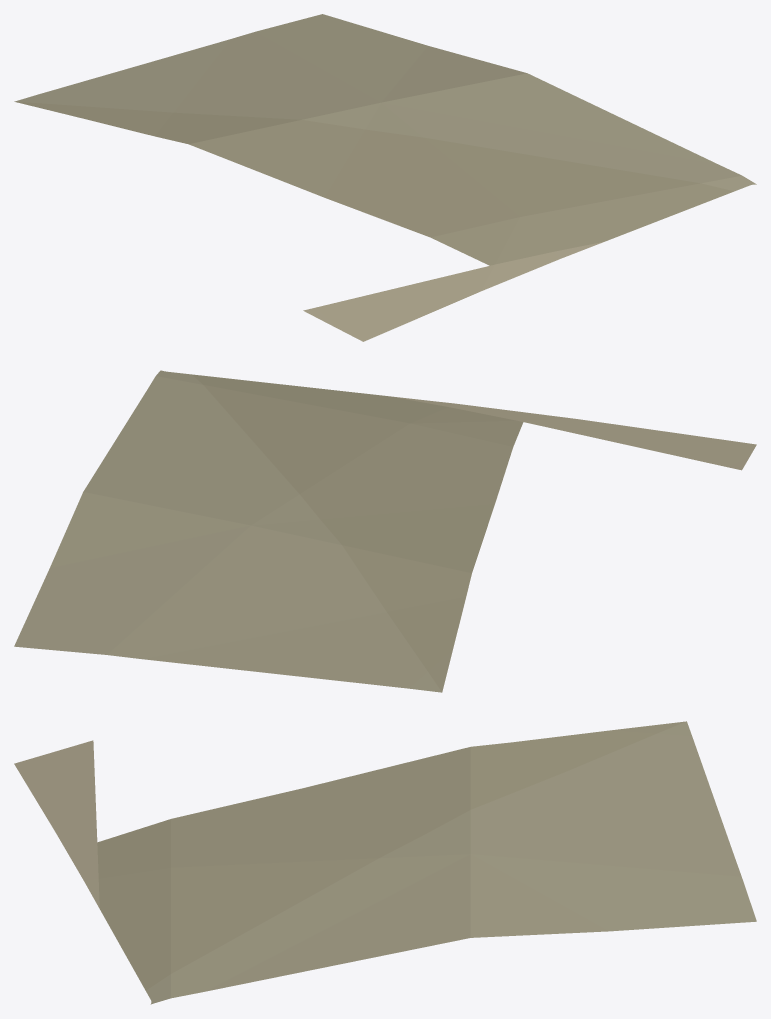
The model's file is farm_-26_-20_soil.glb.
3 views of the same model, one above another, from view 1: azimuth 30°, elevation 25°; view 2: azimuth 150°, elevation 25°; view 3: azimuth 270°, elevation 25° (orthographic). The views are drawn at different scales.
Visible parts, largest first — view 1: geometry_0; view 2: geometry_0; view 3: geometry_0.
Boxes of the visible parts, x1=… form: geometry_0: x1=14, y1=14, x2=756, y2=341; geometry_0: x1=14, y1=370, x2=756, y2=692; geometry_0: x1=14, y1=721, x2=756, y2=1004.
Bounding box in the file's own units: 164 × 10.82 × 198.
